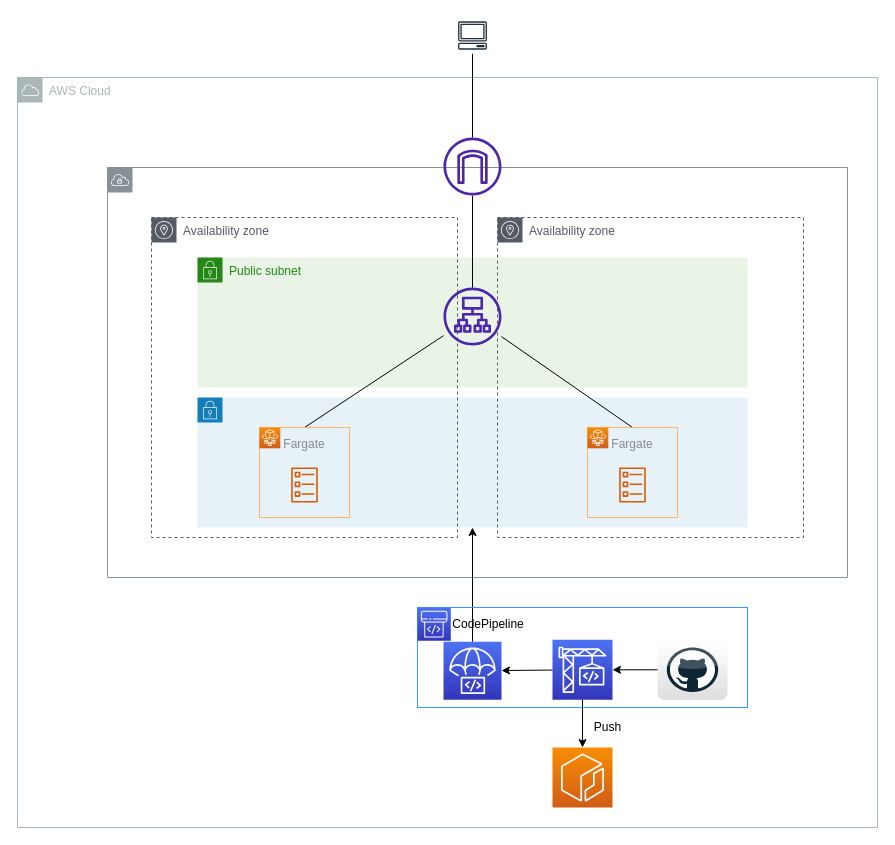
The diagram is 895 pixels wide and 845 high, and some of its shapes have lost their labels. The box of each missing label's shape, as (x1, y1, x2, y2) in pixels:
Client: (454, 16, 490, 54)
Private subnet: (196, 396, 748, 528)
VPC: (106, 166, 848, 578)
